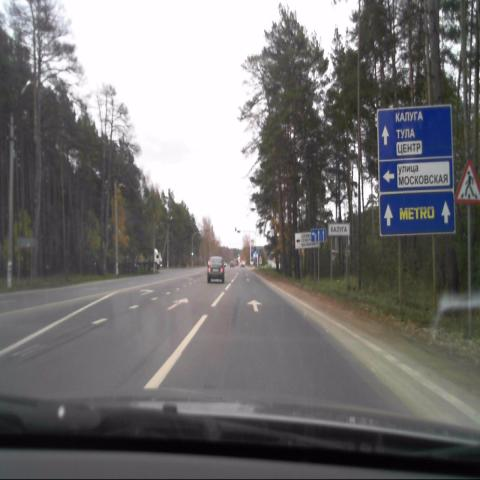1_22: (454, 161, 480, 204)
5_15_1: (310, 228, 327, 244)
